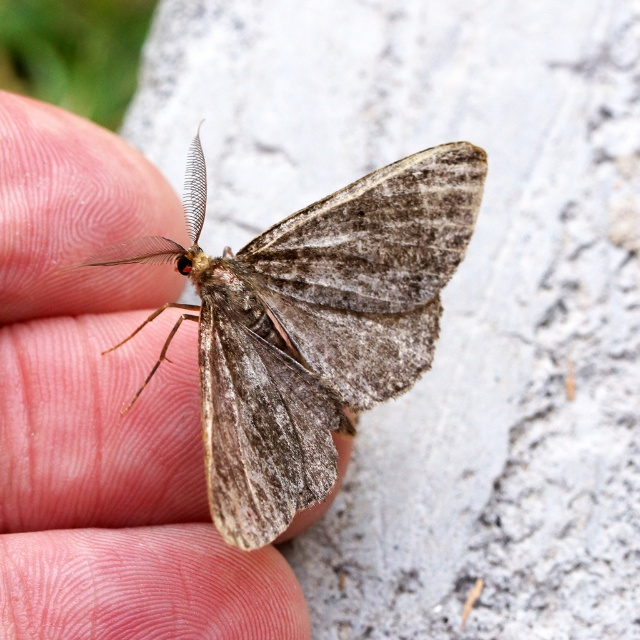Butterfly: (78, 116, 492, 537)
